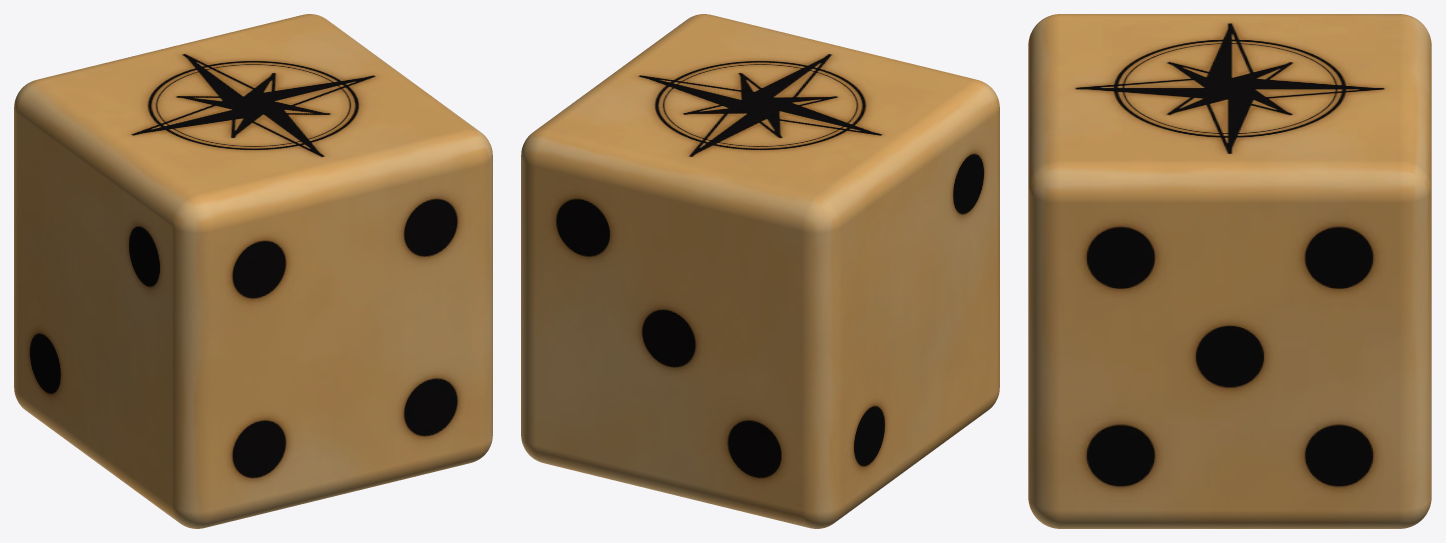
Rendered from dice_6.gltf.
The picture shows the model from 3 angles, left to right: view 1: azimuth 30°, elevation 25°; view 2: azimuth 150°, elevation 25°; view 3: azimuth 270°, elevation 25°; orthographic projection. The views are drawn at different scales.
Visible parts, largest first — view 1: dice_6; view 2: dice_6; view 3: dice_6.
Part boxes in pixels (x1=…): dice_6: x1=14, y1=14, x2=492, y2=528; dice_6: x1=521, y1=14, x2=999, y2=528; dice_6: x1=1028, y1=14, x2=1431, y2=528.
Bounding box in the file's own units: 104 × 104 × 104.
Materials: 1 (1 with a texture image).
